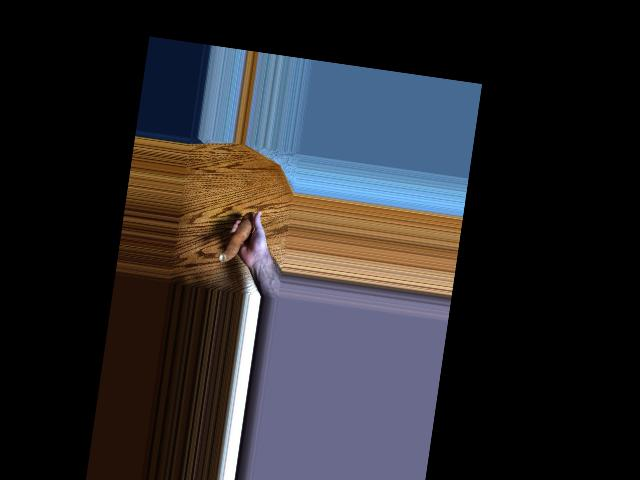sweet_potato: (218, 210, 255, 268)
